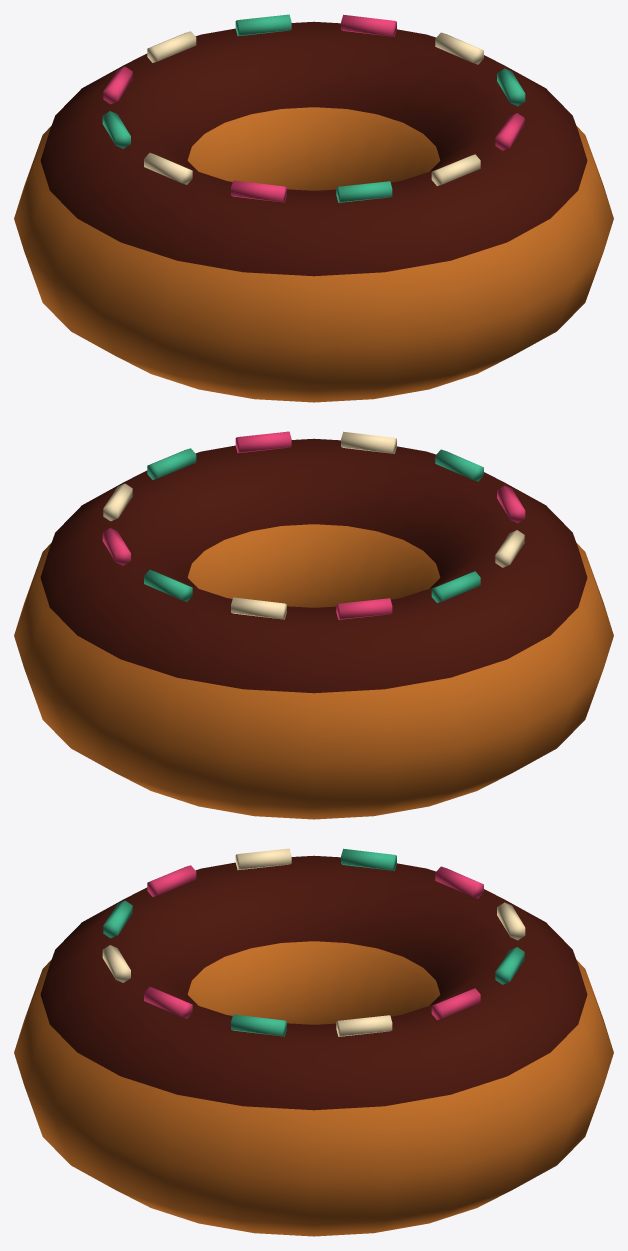
The model's file is donut.glb.
3 views of the same model, one above another, from view 1: azimuth 30°, elevation 25°; view 2: azimuth 150°, elevation 25°; view 3: azimuth 270°, elevation 25° (orthographic).
Parts seen in each view (by area): view 1: donut; view 2: donut; view 3: donut.
Part boxes in pixels (x1,y1,x2,y2): donut: [14, 14, 613, 402]; donut: [14, 431, 613, 819]; donut: [14, 848, 613, 1236].
Bounding box in the file's own units: 1 × 0.3758 × 1.
1 material, 1 textured.
